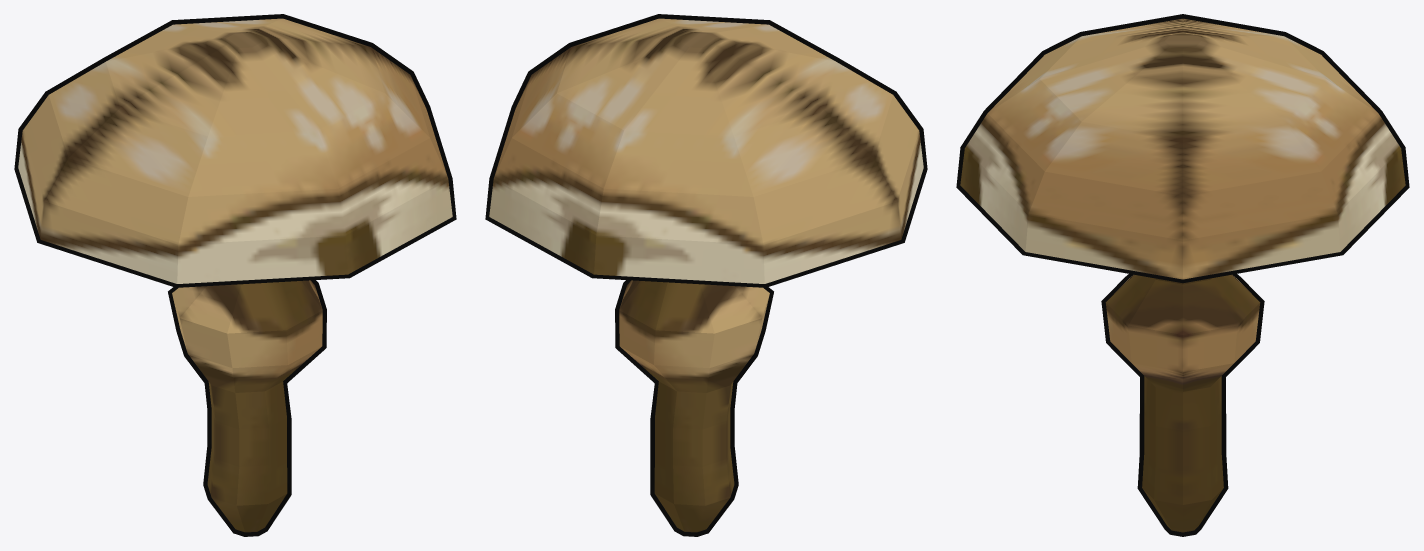
File: Plant_Plant_Timbershroom_Things_Plant_Timbershroom_TimbershroomC.glb
3 renders of one model, left to right at view 1: azimuth 30°, elevation 25°; view 2: azimuth 150°, elevation 25°; view 3: azimuth 270°, elevation 25°, orthographic.
Parts seen in each view (by area): view 1: Body, Outline; view 2: Body, Outline; view 3: Body, Outline.
Part boxes in pixels (<box>): Body: <box>18,18,452,532</box>; Outline: <box>14,14,456,536</box>; Body: <box>489,18,923,532</box>; Outline: <box>485,14,927,536</box>; Body: <box>960,18,1405,532</box>; Outline: <box>956,14,1409,536</box>.
Bounding box in the file's own units: 0.7791 × 0.9297 × 0.7791.
Materials: 2 (1 with a texture image).
